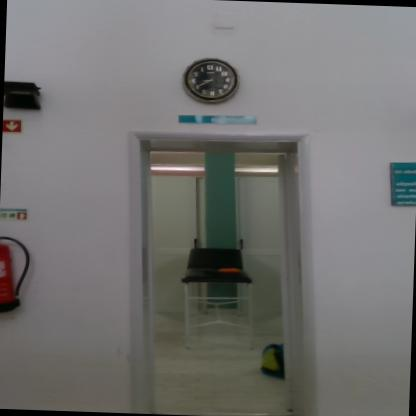open: (115, 125, 317, 416)
